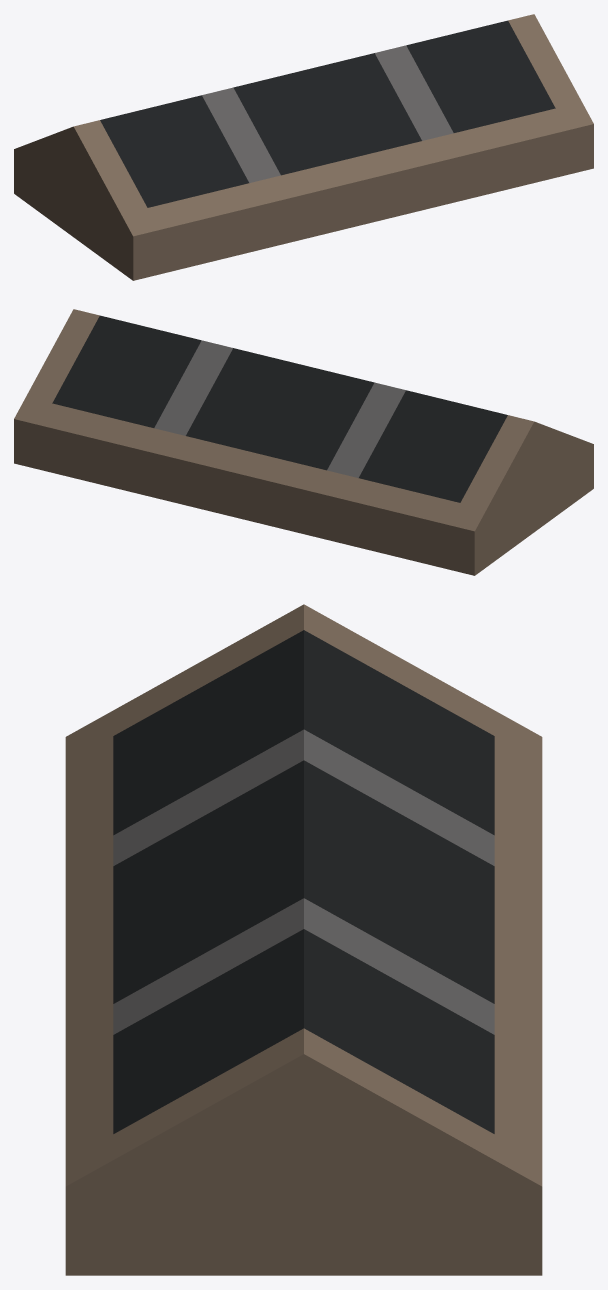
File: SM_Prop_Skylight_01.fbx
3 views of the same model, one above another, from view 1: azimuth 30°, elevation 25°; view 2: azimuth 150°, elevation 25°; view 3: azimuth 270°, elevation 25° (orthographic). The views are drawn at different scales.
Parts seen in each view (by area): view 1: SM_Prop_Skylight_01; view 2: SM_Prop_Skylight_01; view 3: SM_Prop_Skylight_01.
Boxes of the visible parts, left/top/right/bottom form: SM_Prop_Skylight_01: left=14, top=14, right=593, bottom=280; SM_Prop_Skylight_01: left=14, top=309, right=593, bottom=575; SM_Prop_Skylight_01: left=65, top=604, right=542, bottom=1275.
Bounding box in the file's own units: 68.4 × 15.72 × 30.64.
